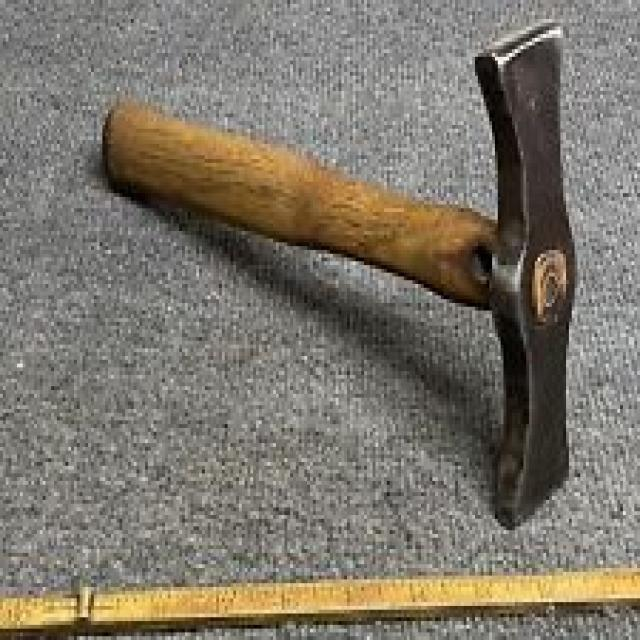hammer: (86, 13, 594, 536)
